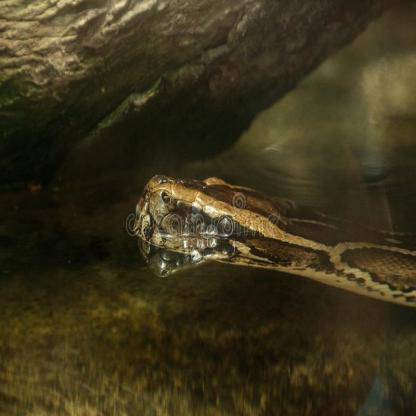snakes: (122, 160, 416, 314)
